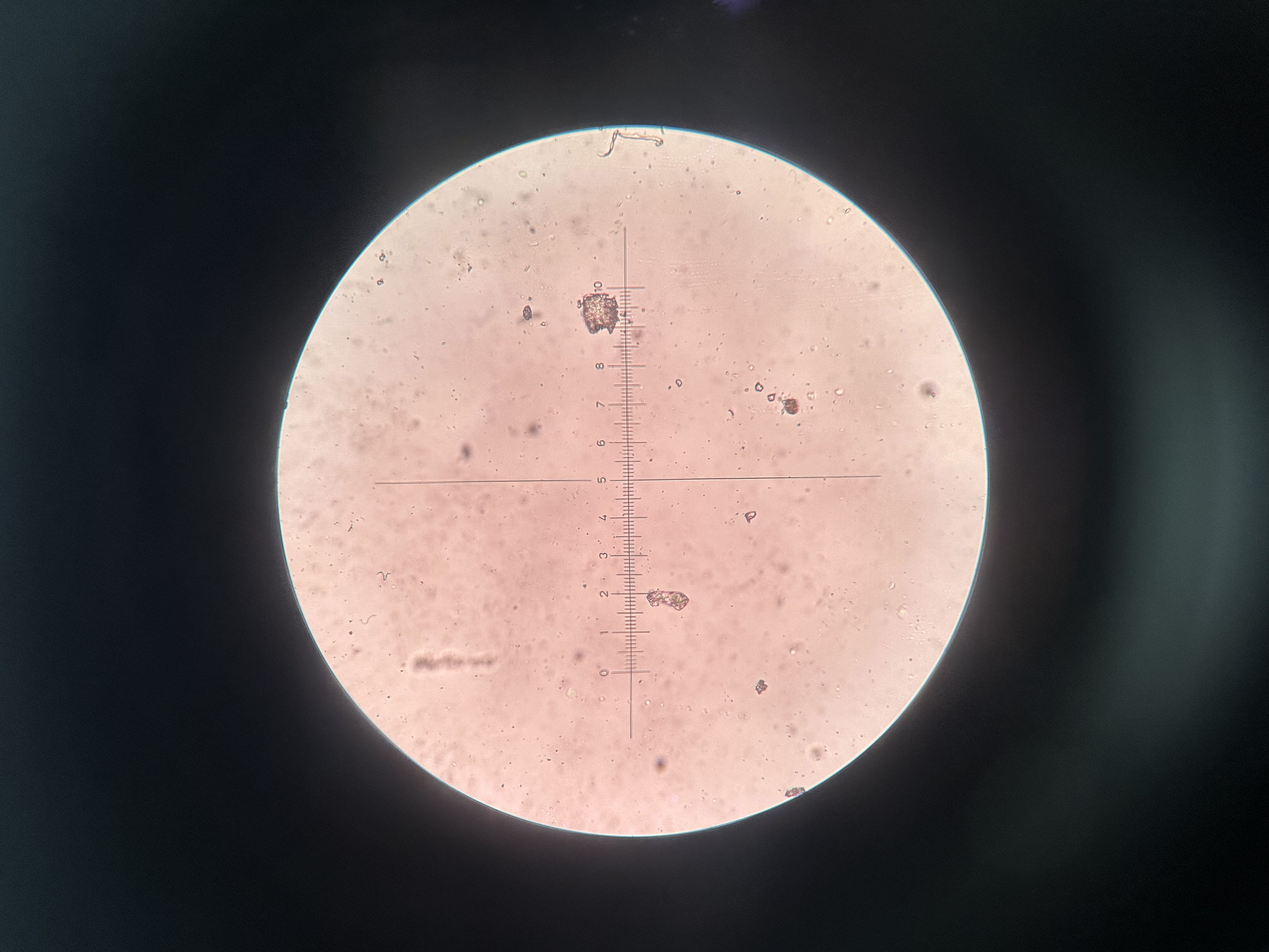microplastic: (407, 649, 496, 680), (578, 290, 624, 336), (604, 129, 667, 160), (645, 586, 688, 609), (779, 398, 803, 420), (458, 440, 481, 460), (753, 384, 776, 402), (785, 787, 809, 800), (754, 678, 770, 695), (744, 509, 757, 524)
